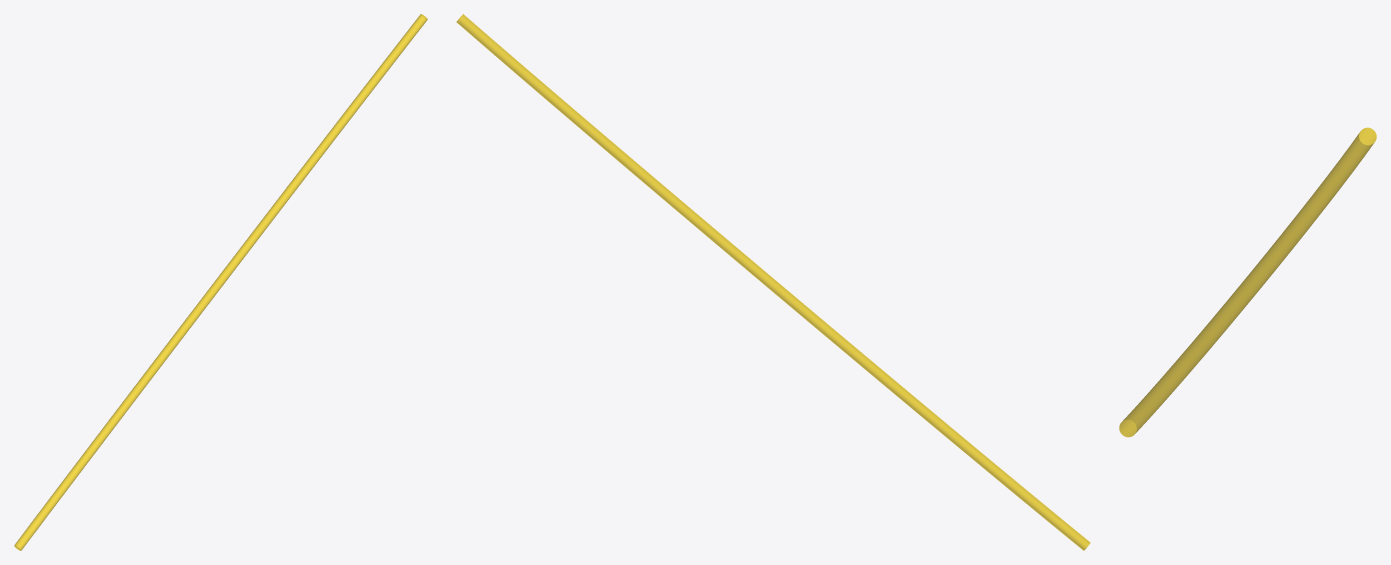
Rendered from Event_15818458_track_25.fbx.
The picture shows the model from 3 angles, left to right: view 1: azimuth 30°, elevation 25°; view 2: azimuth 150°, elevation 25°; view 3: azimuth 270°, elevation 25°; orthographic projection. The views are drawn at different scales.
Parts seen in each view (by area): view 1: Model; view 2: Model; view 3: Model.
Boxes of the visible parts, x1,y1,x2,y2 form: Model: [14, 14, 427, 550]; Model: [456, 14, 1090, 550]; Model: [1119, 127, 1376, 437].
Size of the model in its own units: 2.41 by 1.86 by 0.5696.
